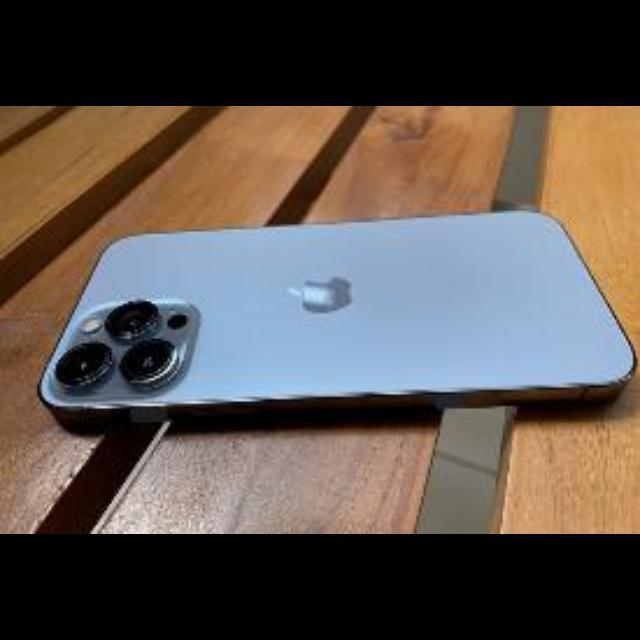phone: (18, 224, 616, 440)
